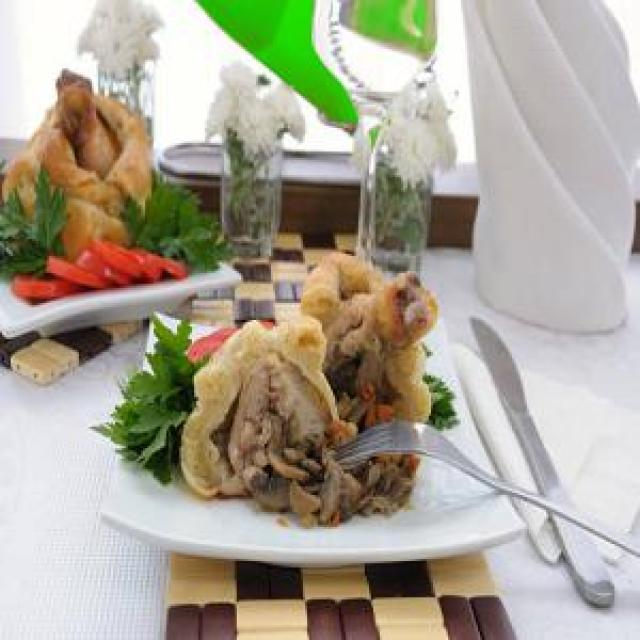knife: (467, 316, 616, 602)
